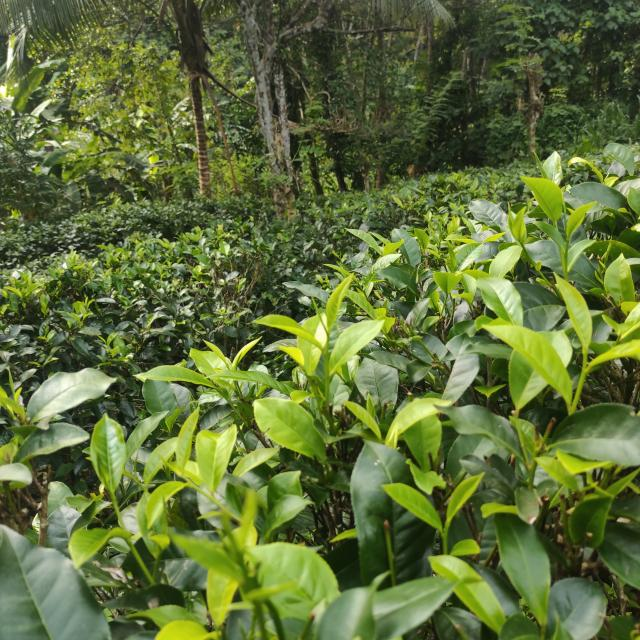unopened_leaf: (308, 290, 332, 336)
